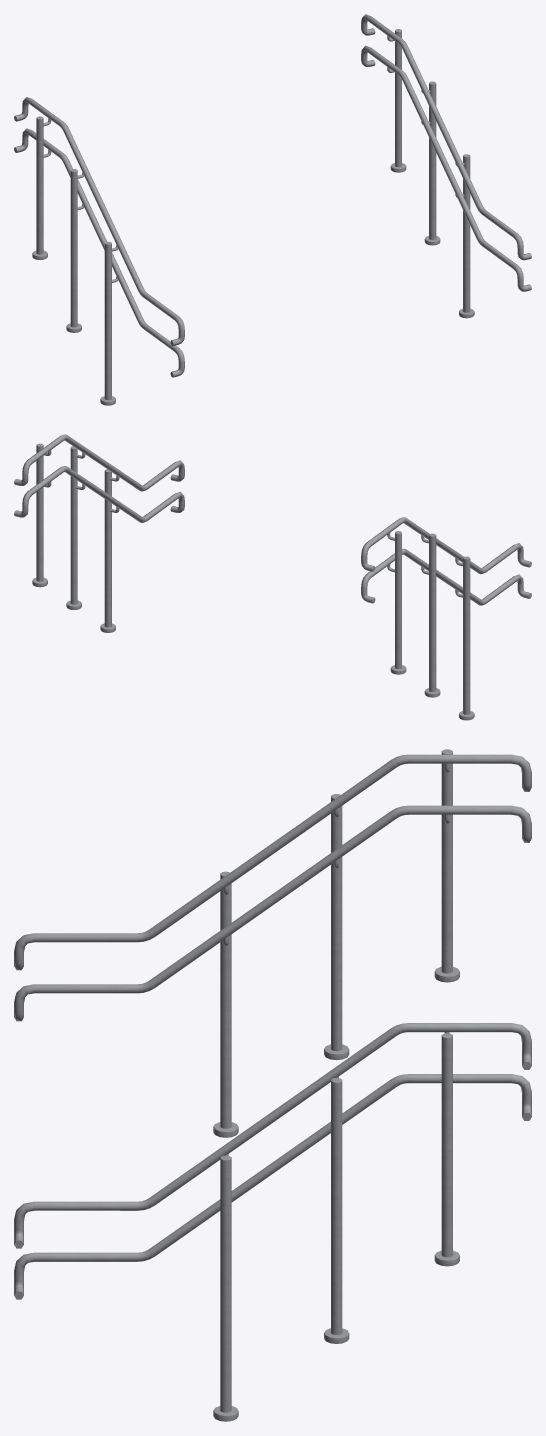
File: gteki_ik_stair_n4_r175_t226_w2206_rails_post.glb
3 views of the same model, one above another, from view 1: azimuth 30°, elevation 25°; view 2: azimuth 150°, elevation 25°; view 3: azimuth 270°, elevation 25° (orthographic). The views are drawn at different scales.
Visible parts, largest first — view 1: VIS_handrails, VIS_rail_supports; view 2: VIS_rail_supports, VIS_handrails; view 3: VIS_handrails, VIS_rail_supports.
Part boxes in pixels (bbox=[...]): VIS_handrails: bbox=[14, 14, 531, 377]; VIS_rail_supports: bbox=[32, 29, 474, 405]; VIS_rail_supports: bbox=[32, 443, 474, 720]; VIS_handrails: bbox=[14, 434, 531, 605]; VIS_handrails: bbox=[14, 754, 531, 1299]; VIS_rail_supports: bbox=[213, 749, 459, 1421].
Bounding box in the file's own units: 2.48 × 1.51 × 1.84.
1 material, 1 textured.
